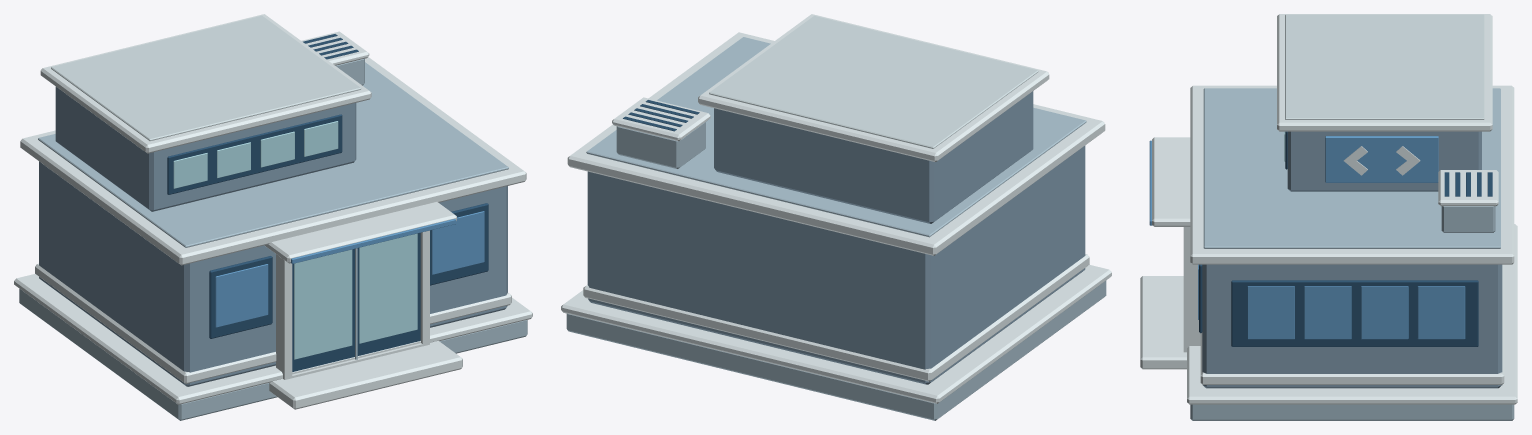
File: campus_lab_v01.glb
The picture shows the model from 3 angles, left to right: view 1: azimuth 30°, elevation 25°; view 2: azimuth 150°, elevation 25°; view 3: azimuth 270°, elevation 25°; orthographic projection. The views are drawn at different scales.
Parts seen in each view (by area): view 1: Lab; view 2: Lab; view 3: Lab.
Part boxes in pixels (box(x1,y1,x2,y2)): Lab: box(14, 14, 532, 420); Lab: box(561, 14, 1111, 420); Lab: box(1140, 14, 1517, 420).
Size of the model in its own units: 7.65 by 5 by 6.98.
1 material, 1 textured.
